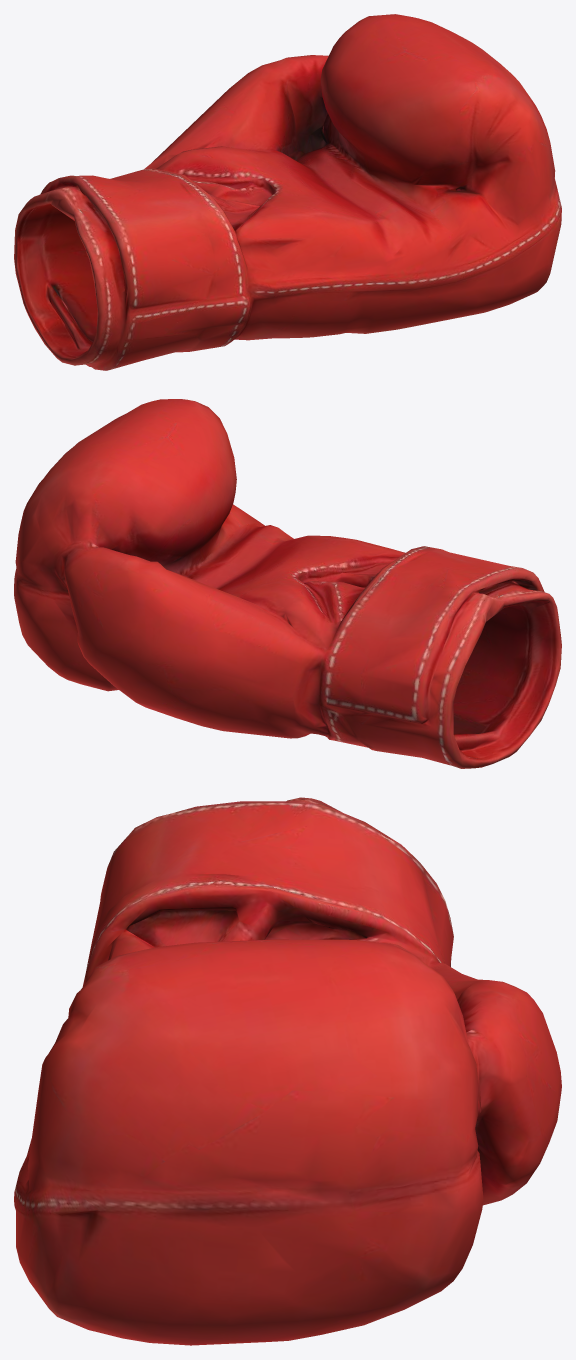
File: glove.glb
The picture shows the model from 3 angles, top to bottom: view 1: azimuth 30°, elevation 25°; view 2: azimuth 150°, elevation 25°; view 3: azimuth 270°, elevation 25°; orthographic projection. The views are drawn at different scales.
Bounding box in the file's own units: 2 × 0.9809 × 1.33.
1 material, 1 textured.
